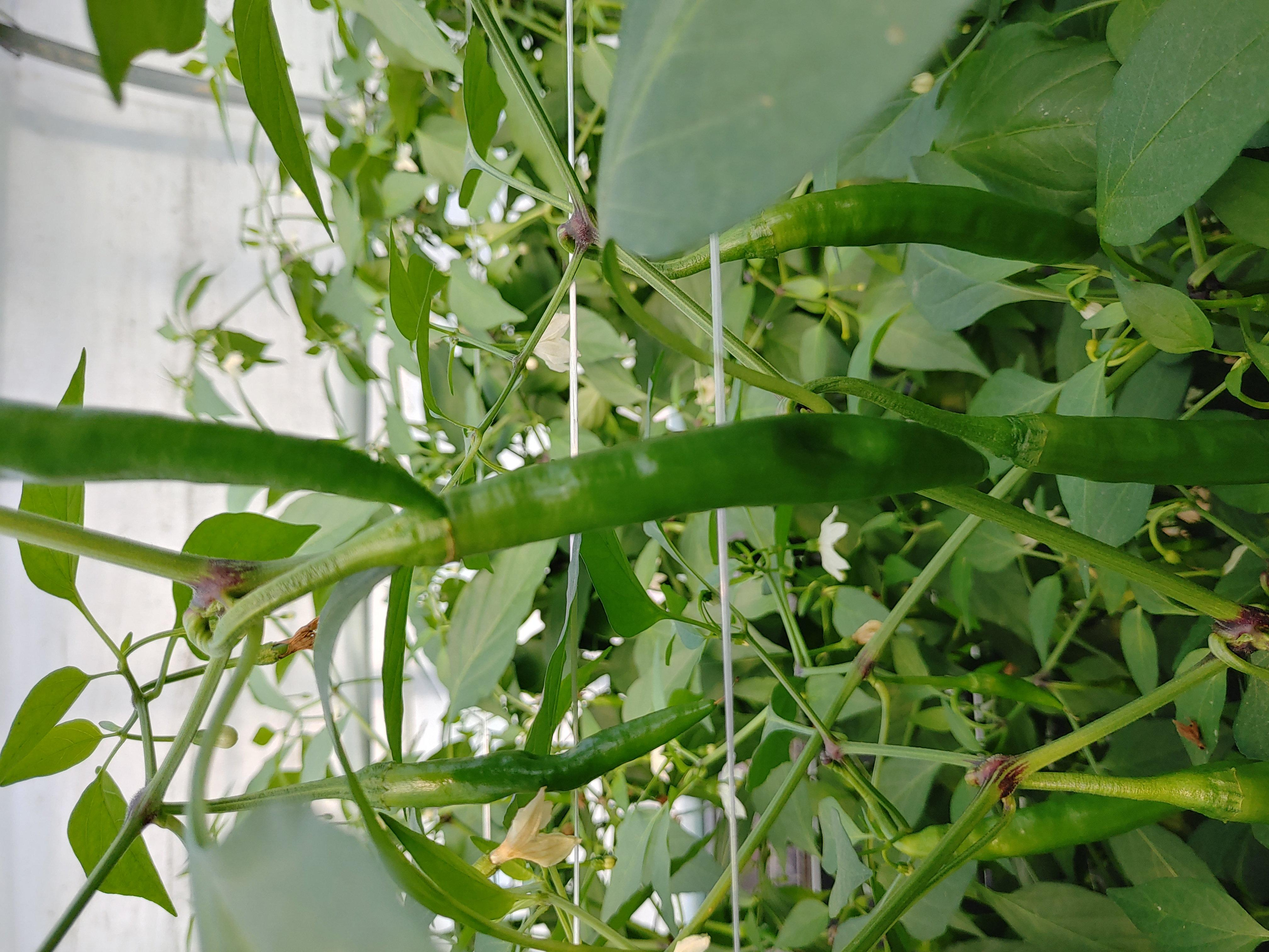Buah Cabai Sehat: (402, 408, 997, 560), (0, 396, 448, 524), (342, 692, 715, 805), (739, 179, 1113, 284), (1006, 406, 1269, 496)
